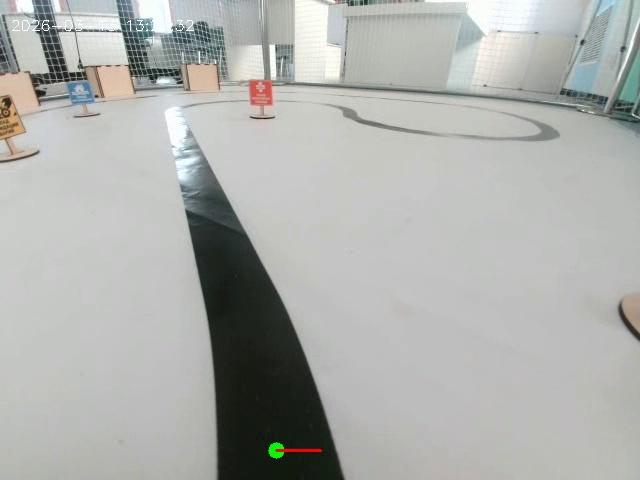flood: (58, 71, 117, 136)
industrial: (0, 95, 46, 186)
medical: (244, 66, 290, 132)
